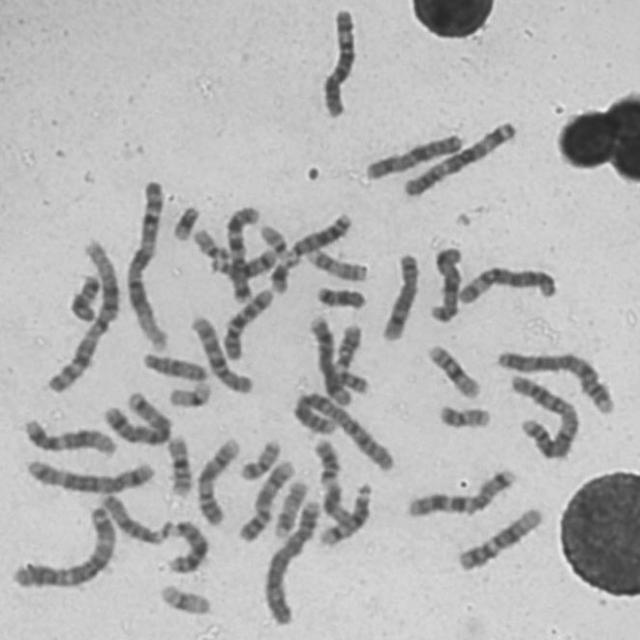A1: (41, 235, 123, 396), (121, 174, 173, 353)
A2: (289, 388, 397, 473), (504, 369, 581, 462)
A3: (6, 500, 120, 591), (399, 115, 520, 199)
B4: (492, 345, 618, 417), (258, 494, 324, 627)
B5: (20, 454, 157, 495), (98, 387, 174, 447)
C10: (185, 310, 256, 396), (218, 283, 276, 362)
C11: (309, 434, 352, 525), (323, 319, 364, 407)
C12: (452, 501, 547, 574), (18, 414, 119, 459)
C6: (317, 3, 359, 120), (454, 261, 560, 307)
C7: (401, 464, 519, 520), (222, 201, 262, 304)
C8: (305, 312, 353, 407), (377, 248, 422, 344)
C9: (234, 455, 296, 544), (193, 433, 243, 527)
D13: (285, 208, 354, 261), (159, 515, 210, 576)
D14: (314, 477, 374, 549), (206, 242, 280, 278)
D15: (96, 489, 167, 547), (138, 348, 212, 382)
E16: (422, 339, 483, 401), (162, 429, 196, 498)
E17: (301, 244, 371, 284), (269, 475, 311, 540)
E18: (66, 270, 102, 324), (312, 282, 369, 312)
F19: (155, 580, 214, 617), (164, 377, 213, 410)
F20: (235, 434, 284, 482), (434, 400, 494, 430)
G21: (265, 252, 301, 296), (168, 201, 202, 242)
G22: (189, 223, 231, 261), (255, 219, 292, 260)
X: (360, 128, 466, 182), (425, 242, 465, 324)
